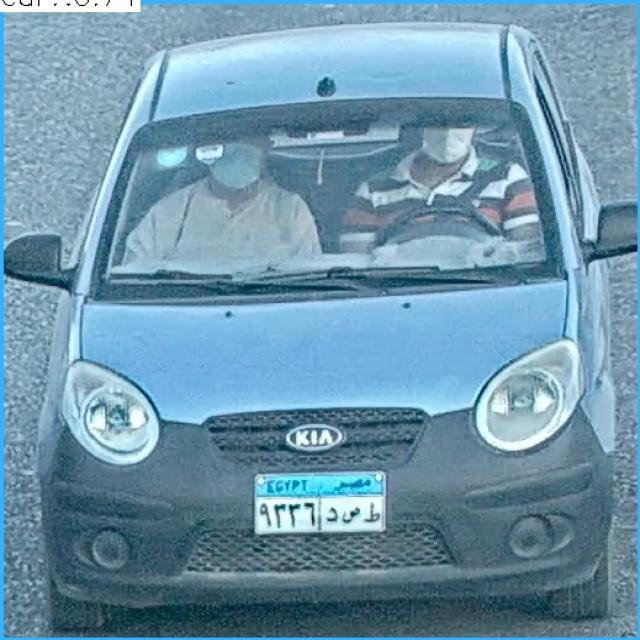windshield: (95, 103, 536, 292)
